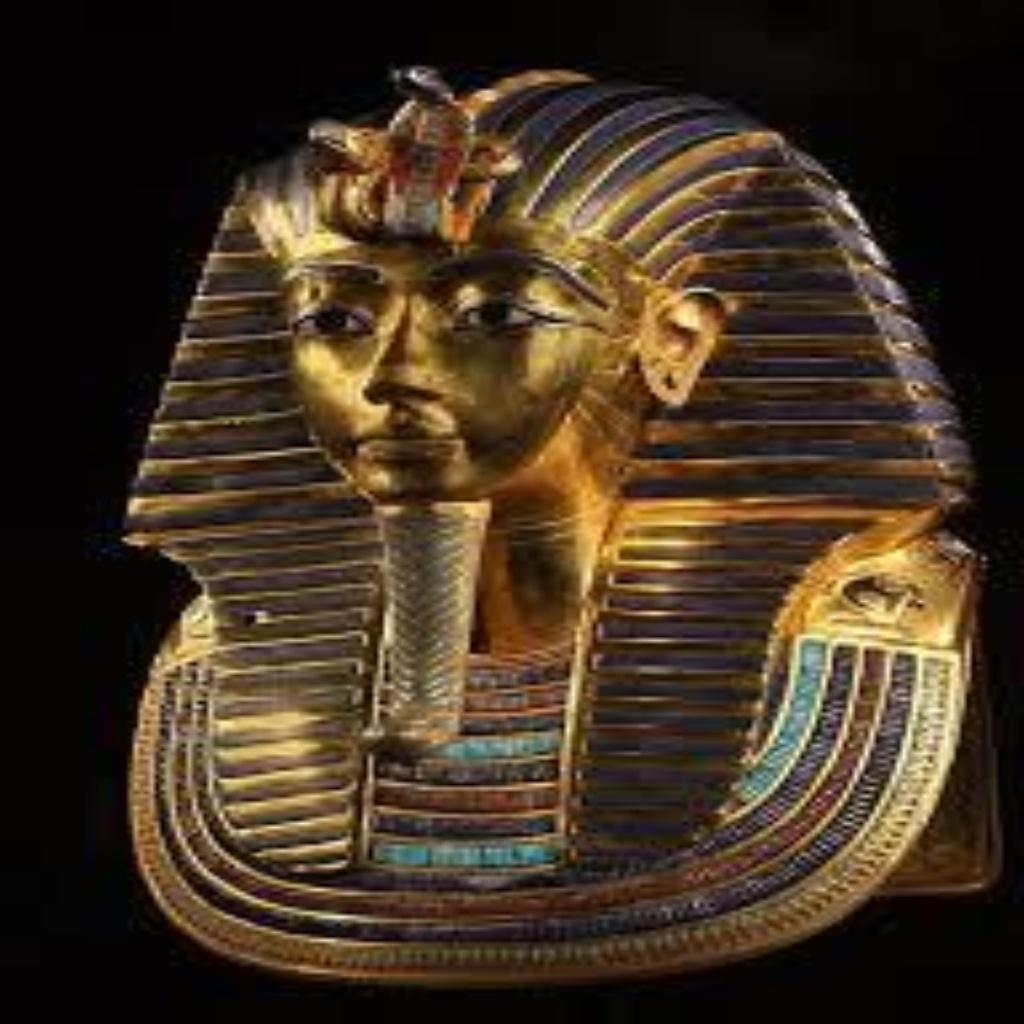Mask of Tutankhamun: (112, 58, 1003, 985)
